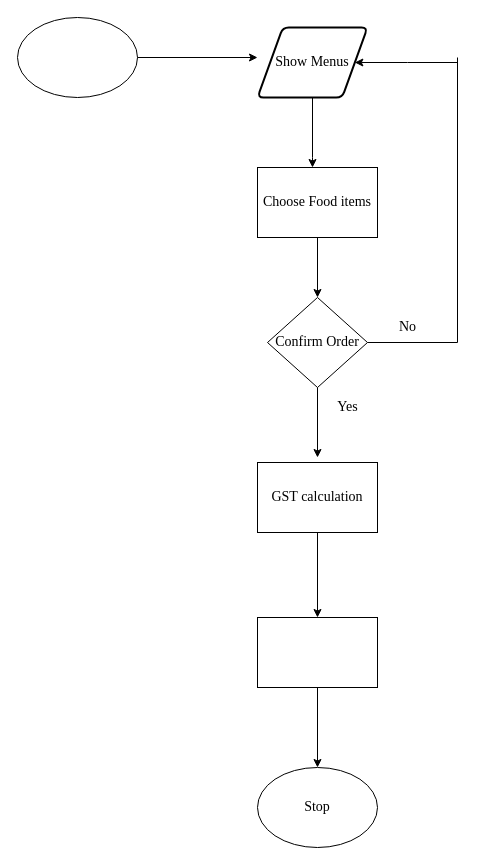
The diagram is 483 pixels wide and 865 high, and some of its shapes have lost their labels. Here are the shapes that lost their labels. From the top down, the centre of each, then its label:
At point (77, 57): "Start".
At point (317, 652): "Generate Bill".
